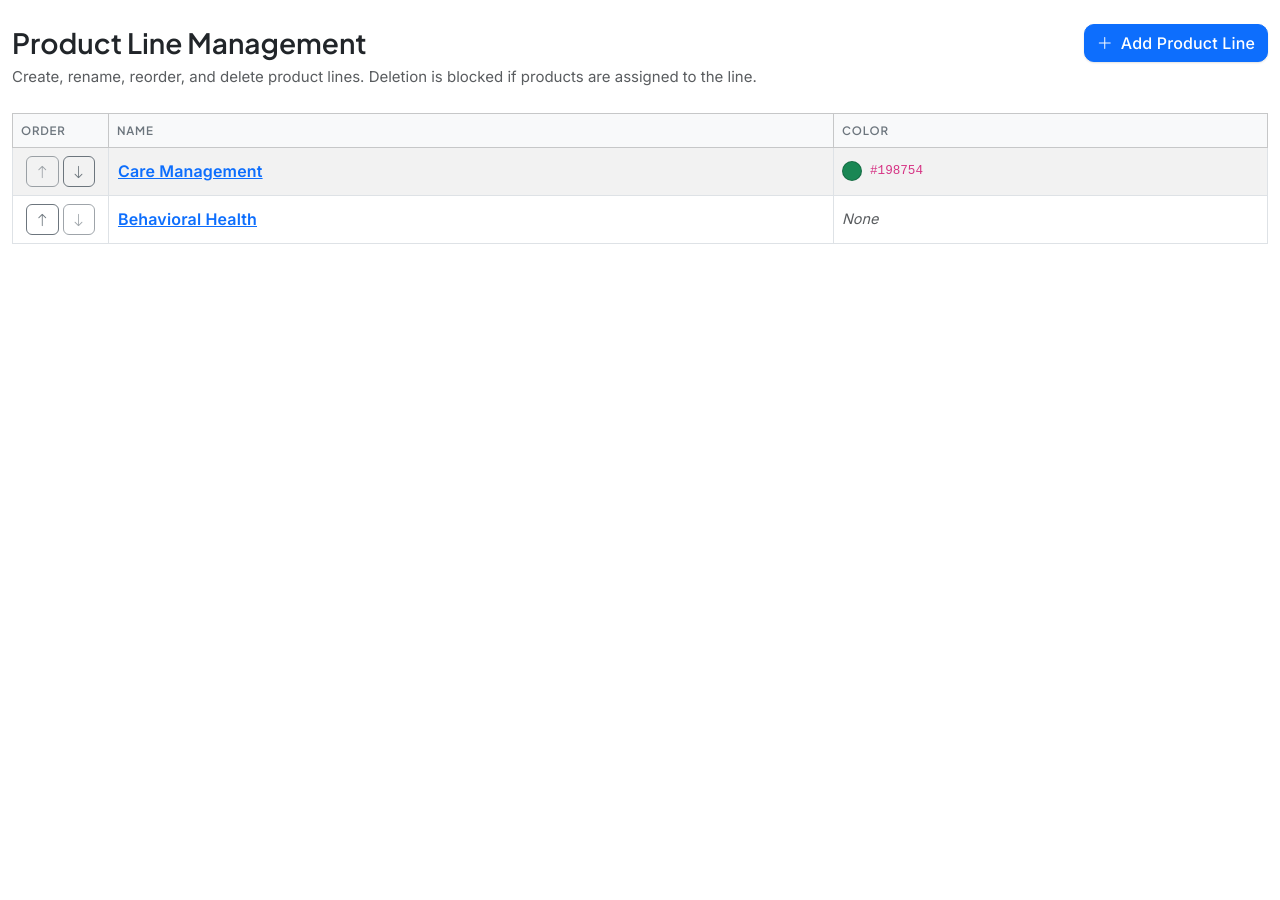
Test: add drawer › shows inline error for invalid hex color
The width and height of the screenshot is (1280, 900).
Click the button "Add Product Line" at [1176, 43], box [1084,24,1268,62]
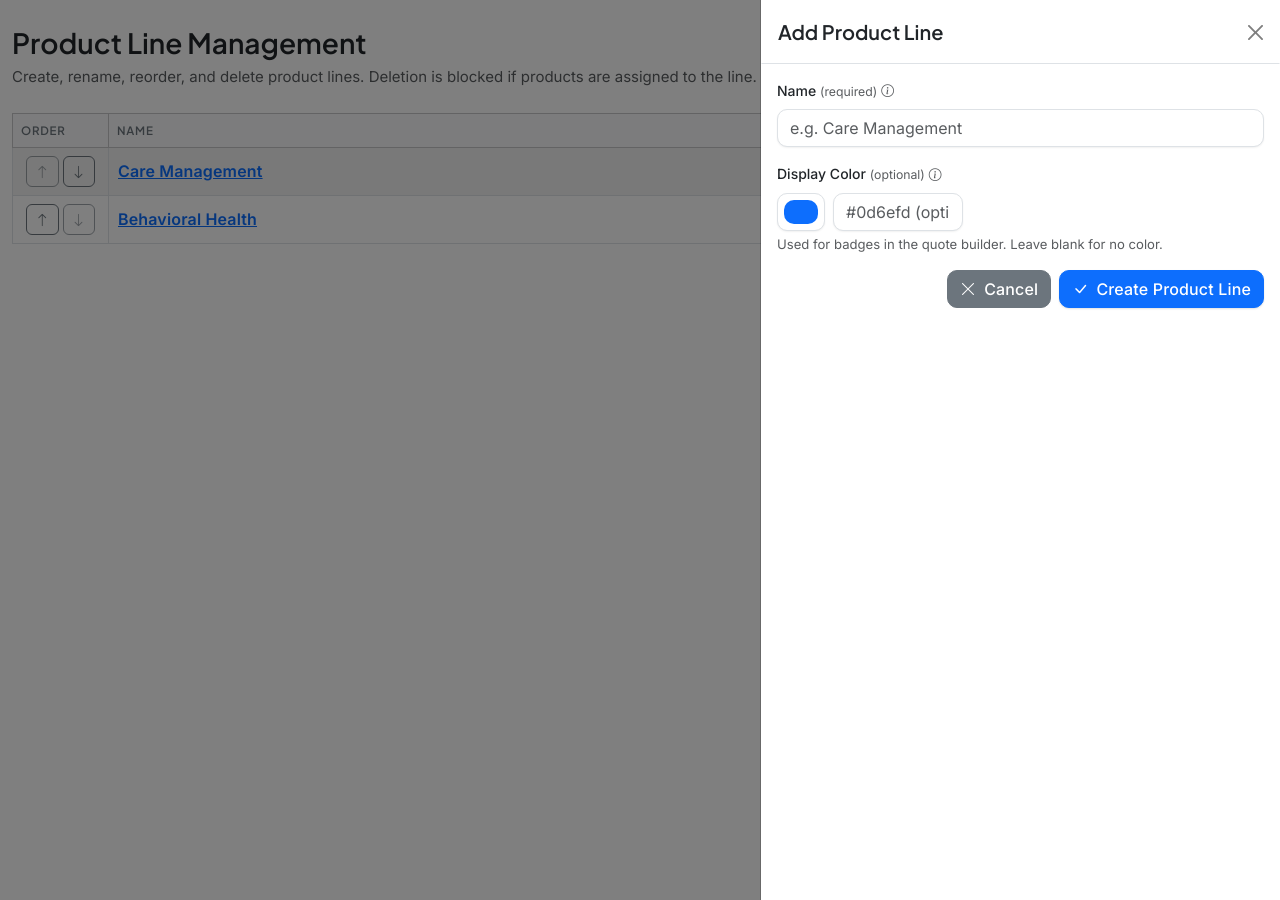
Type "New Line" into the field labelled "Name (required)" at [1020, 128], box [777,109,1264,147]
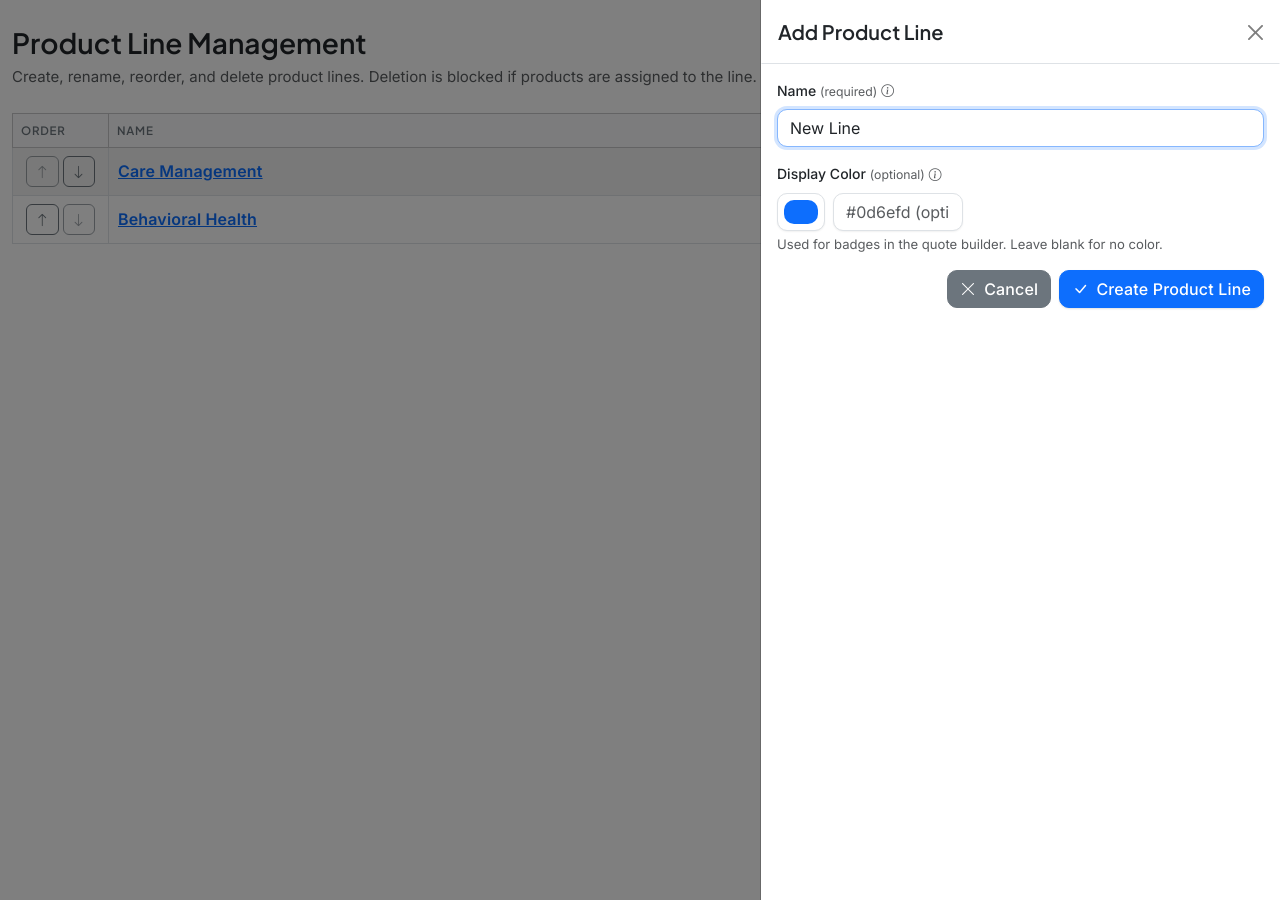
Type "badcolor" into the field named "display color hex" at [898, 212], box [833,193,963,231]
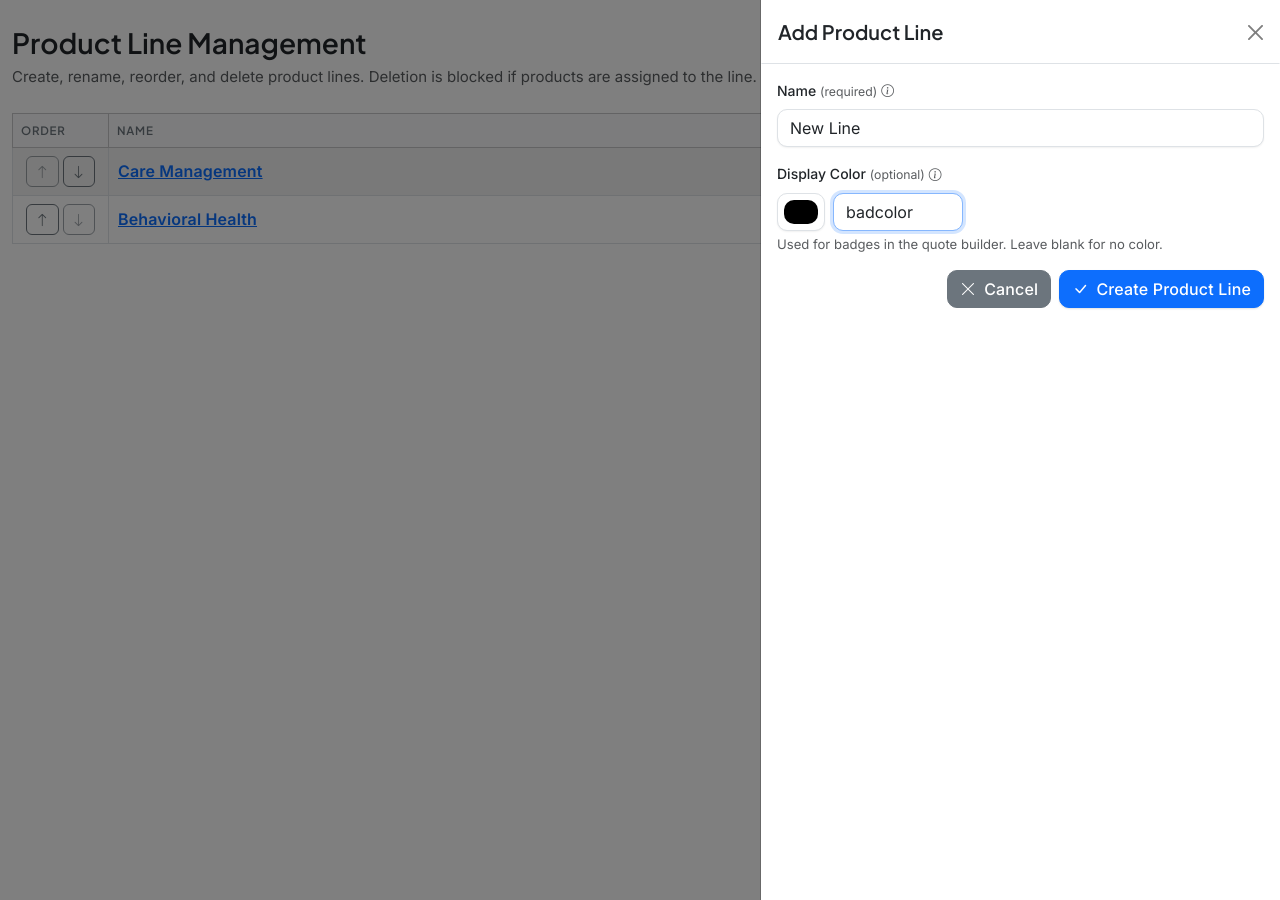
Click the button "Create Product Line" at [1162, 289], box [1059,270,1264,308]
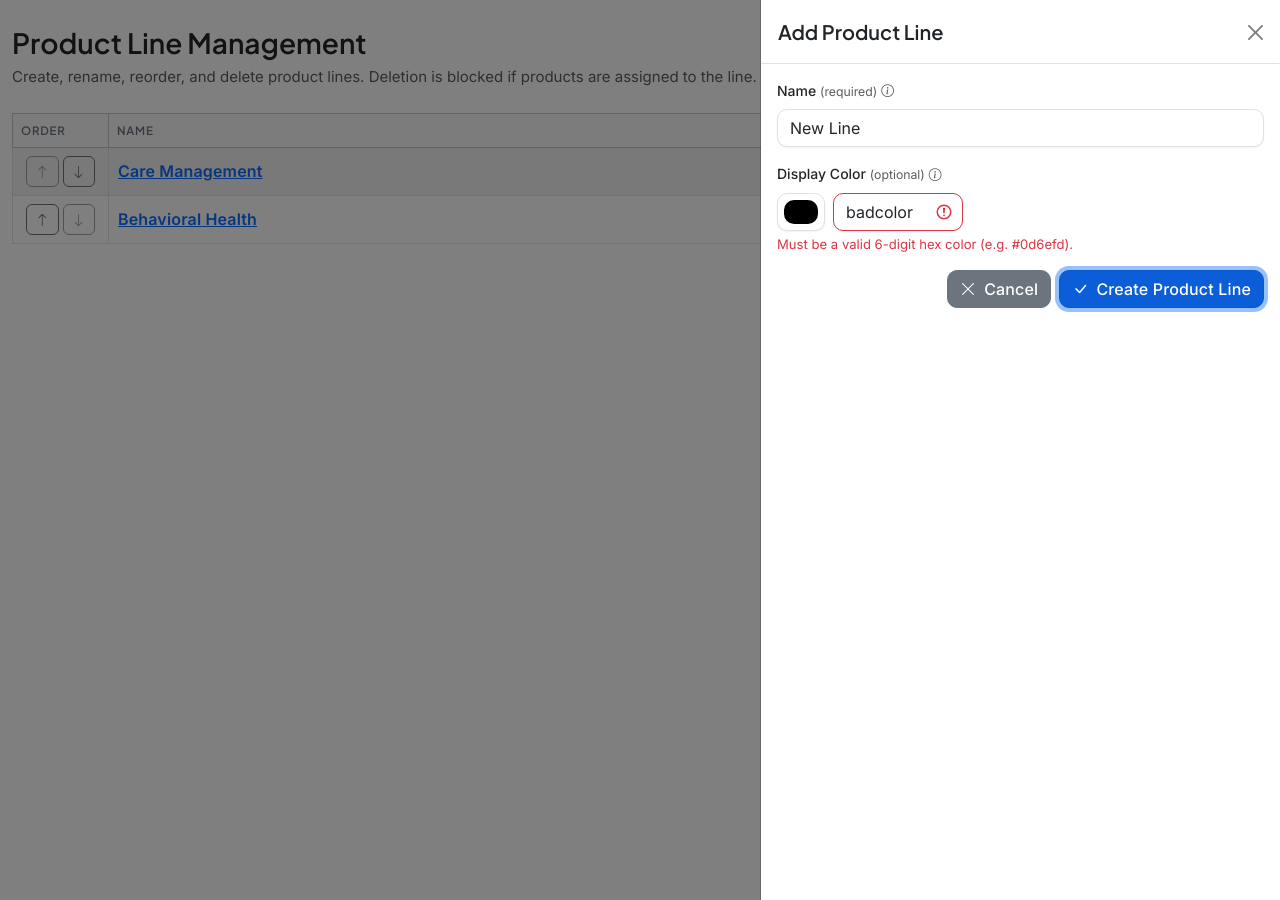
expect the text "Must be a valid 6-digit hex color (e.g. #0d6efd)." is shown: met, box [777,236,1073,252]
